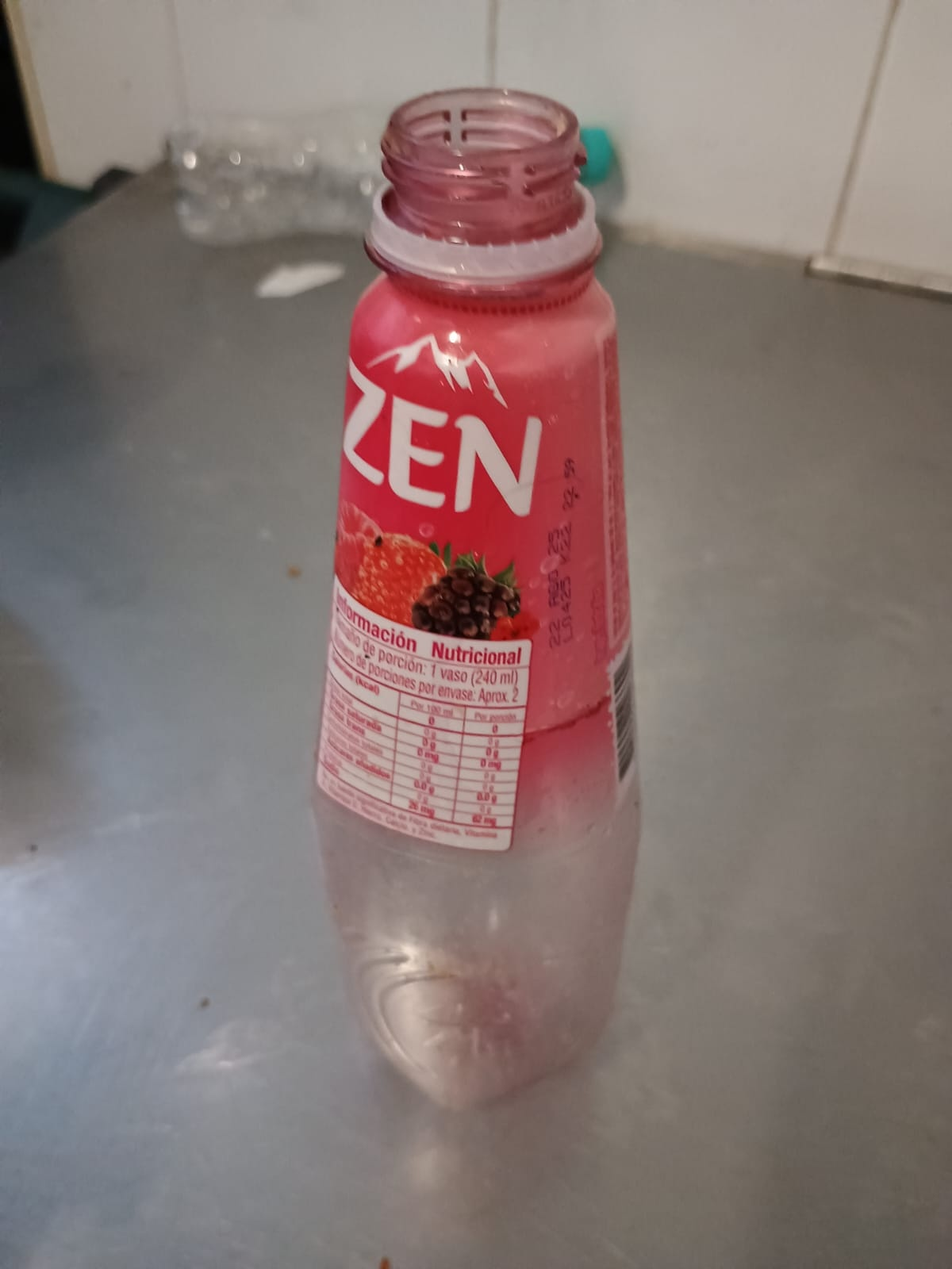Plastico: (308, 87, 639, 1111)
